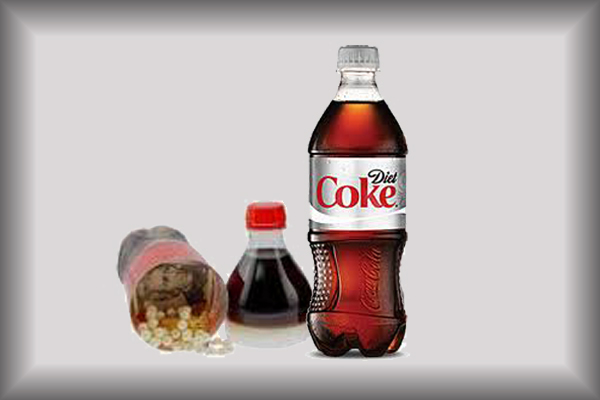coke: (312, 45, 411, 355)
